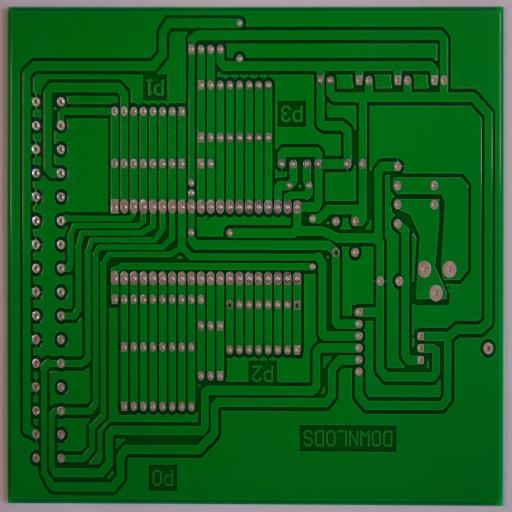missing_hole: (331, 247, 340, 257), (226, 300, 233, 310), (294, 301, 300, 309)
